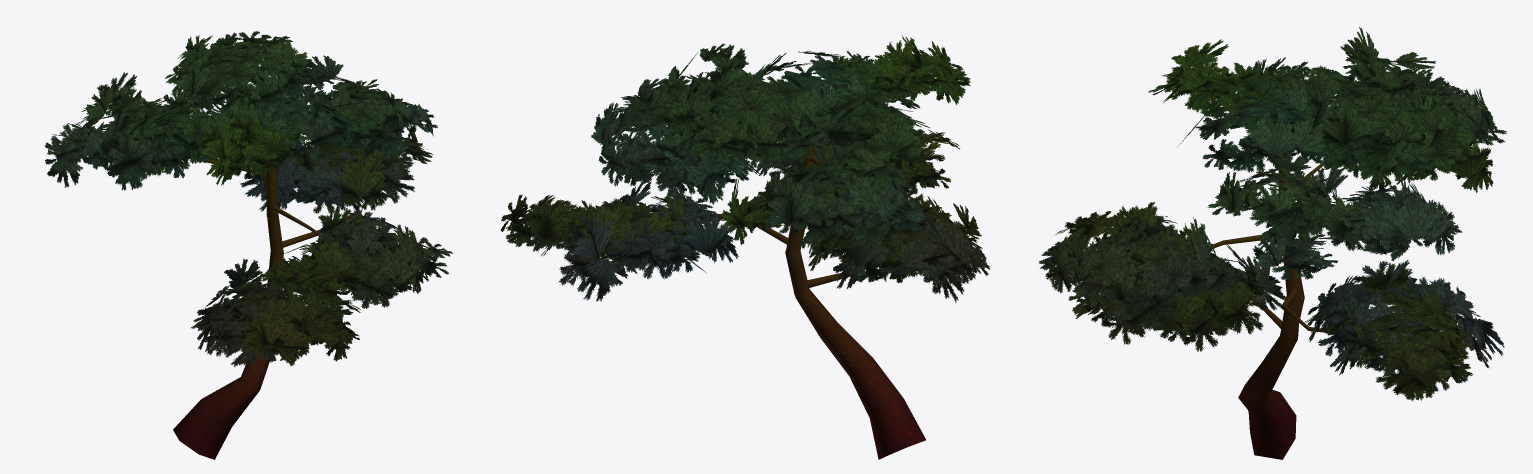
The model's file is pine_0.lod1.glb.
3 renders of one model, left to right at view 1: azimuth 30°, elevation 25°; view 2: azimuth 150°, elevation 25°; view 3: azimuth 270°, elevation 25°, orthographic. The views are drawn at different scales.
Parts seen in each view (by area): view 1: pine_0.lod1; view 2: pine_0.lod1; view 3: pine_0.lod1.
Boxes of the visible parts, <box> form: pine_0.lod1: <box>44,31,453,459</box>; pine_0.lod1: <box>500,35,990,459</box>; pine_0.lod1: <box>1039,26,1506,459</box>.
Size of the model in its own units: 8.65 by 7.61 by 7.92.
2 materials, 2 textured.
